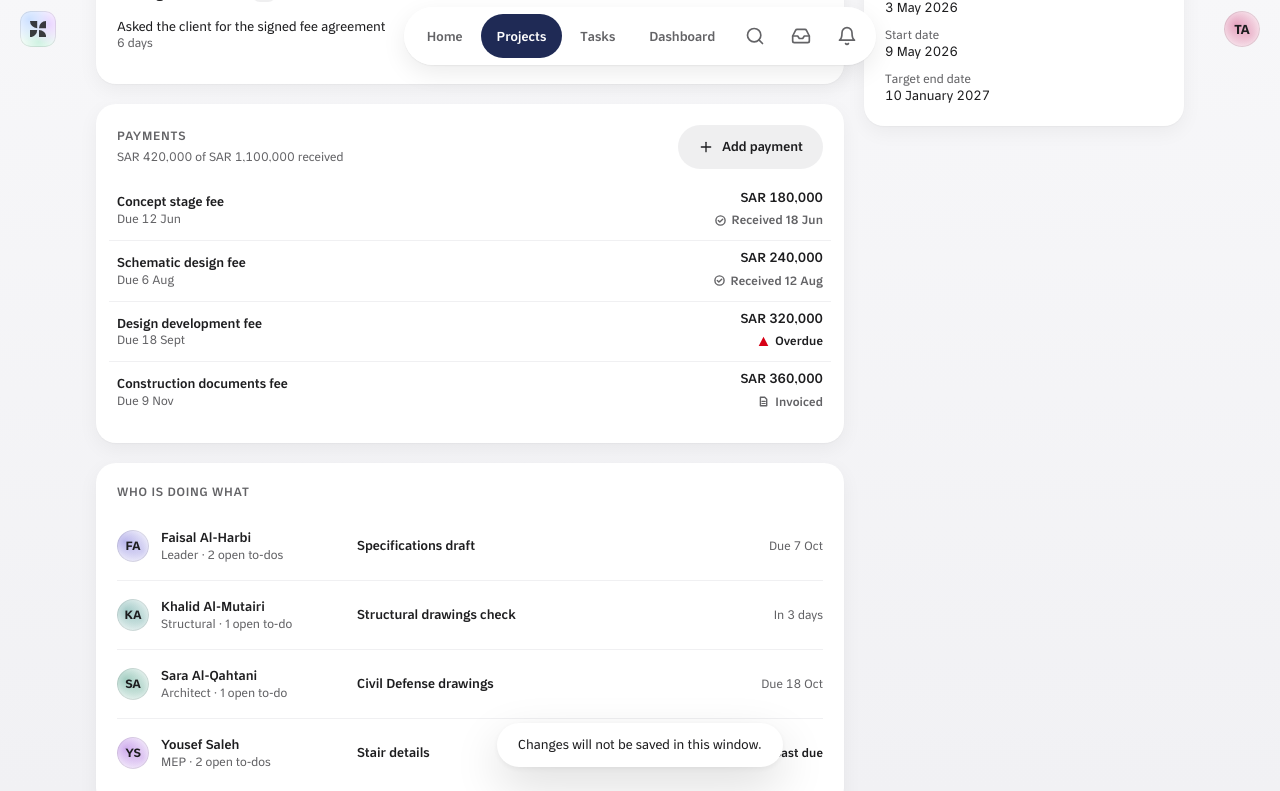
Test case: states 5 and 6: a linked payment › shows the read-only lines to a person without the Daftra switch, and asks Daftra nothing
(page scrolled)
Click the button "Construction documents fee Due 9 Nov SAR 360,000 Invoiced": point(202, 383) [109, 362, 831, 422]
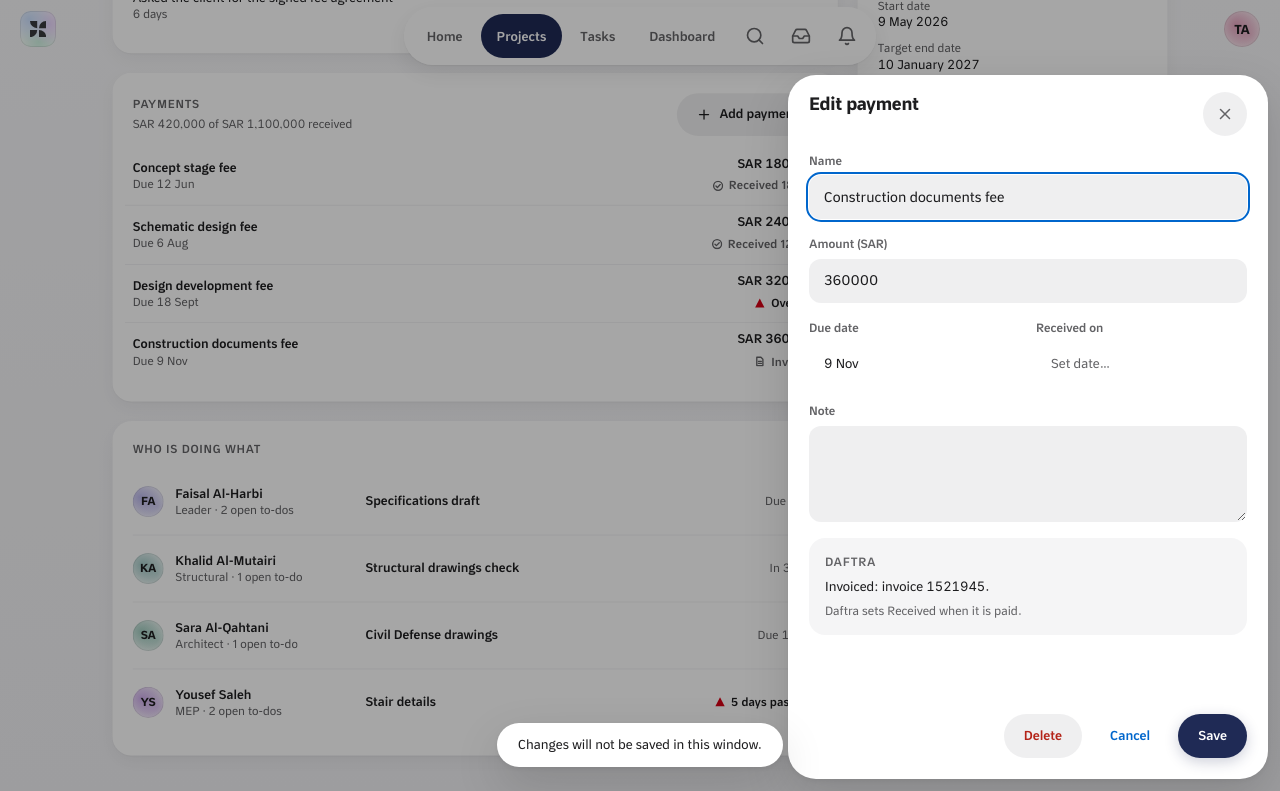
Result: the text "Invoiced: invoice 1521945." is shown at [825, 578, 990, 594]
